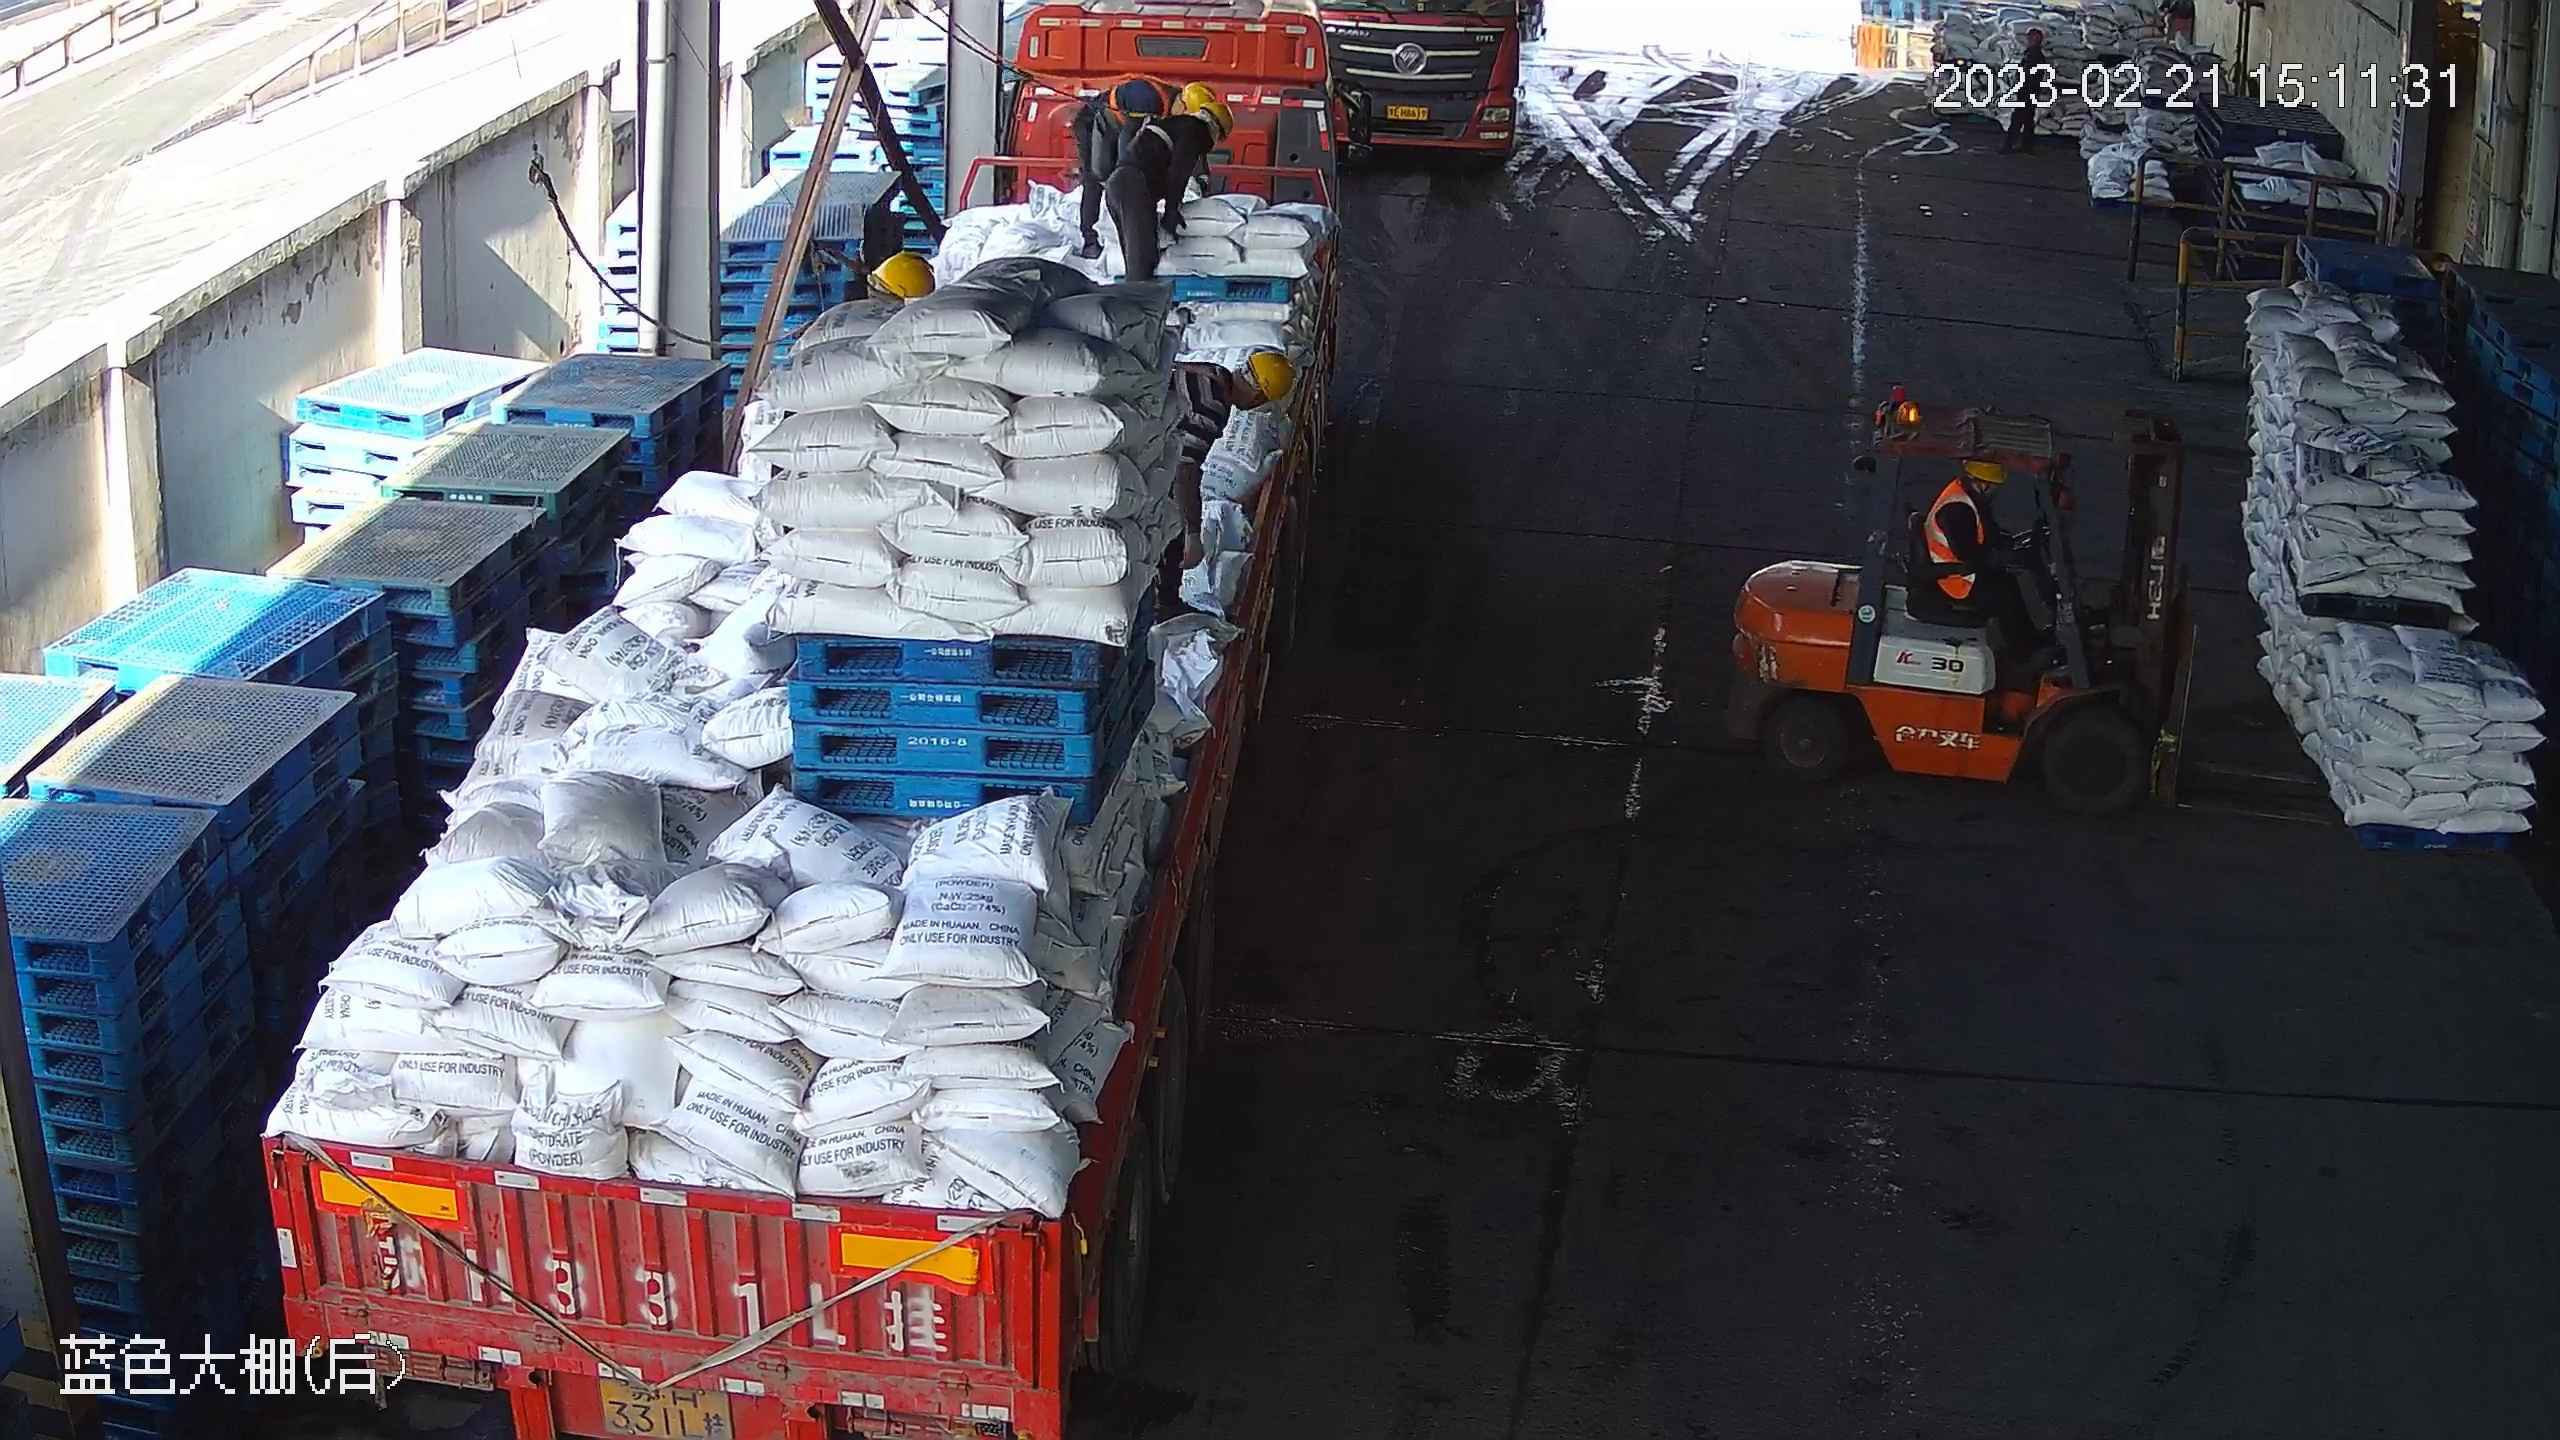belt: (1108, 73, 1180, 126), (1127, 113, 1190, 155)
head: (1174, 349, 1296, 453), (1935, 460, 2006, 529), (1168, 101, 1235, 160), (1131, 81, 1214, 123)
helmet: (869, 250, 936, 298), (1247, 352, 1296, 403), (1204, 101, 1235, 138), (1963, 460, 2005, 483), (1182, 81, 1214, 111)
people: (1073, 81, 1215, 260), (1924, 460, 2054, 654), (1104, 102, 1235, 278)
truck: (258, 1, 1374, 1440), (1318, 1, 1523, 161)
